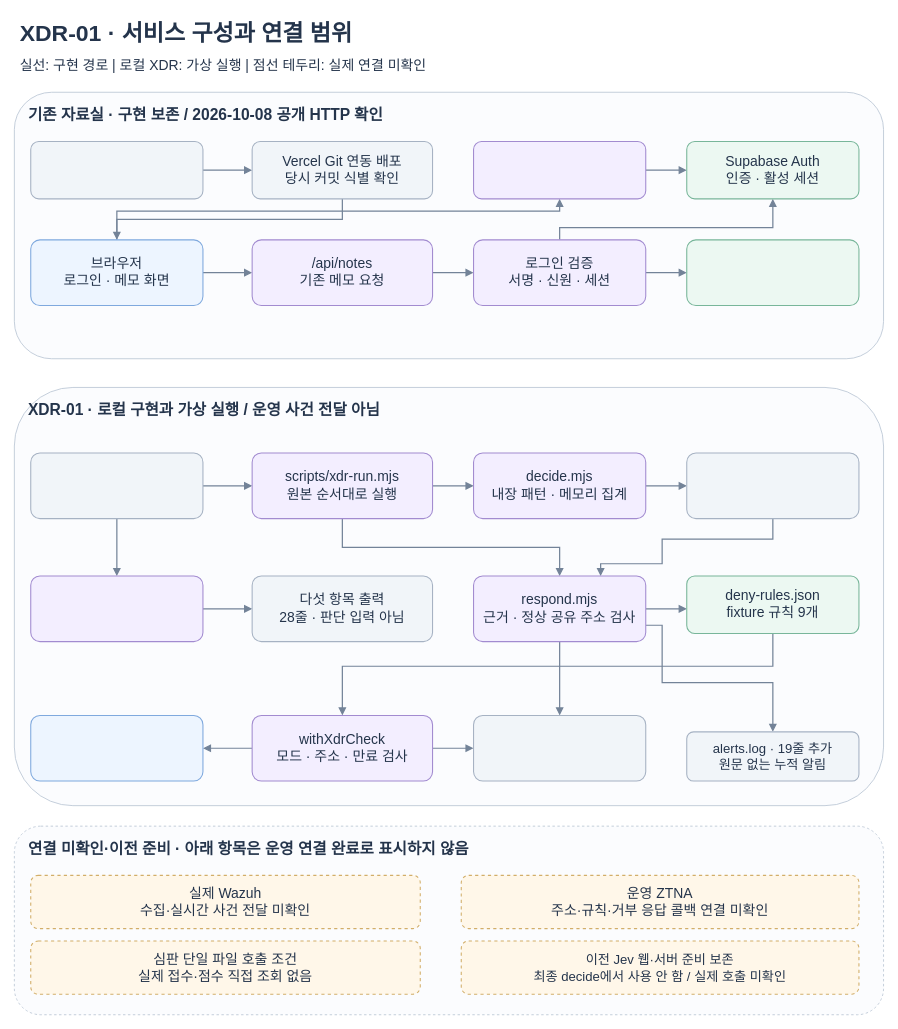
Some shapes in this 898 by 1029 pixel diagram are drawn without their labels. Each missing label, with the centre of its shape:
/api/auth 로그인 중계: the point at 559,170
check.json 정상 오차단 0 운영 연결 false: the point at 559,748
GitHub 저장점 승인한 main 푸시: the point at 116,170
read-alerts.mjs 확인용 읽기: the point at 116,608
result.json block 10 / alert 9 record 9: the point at 772,485
Supabase 메모 API 본인 자료로 제한: the point at 772,272
가상 allow 판정기 실제 starter.deny 보존: the point at 116,748
원본 가상 경보 28건 · 변경 없음: the point at 116,485
